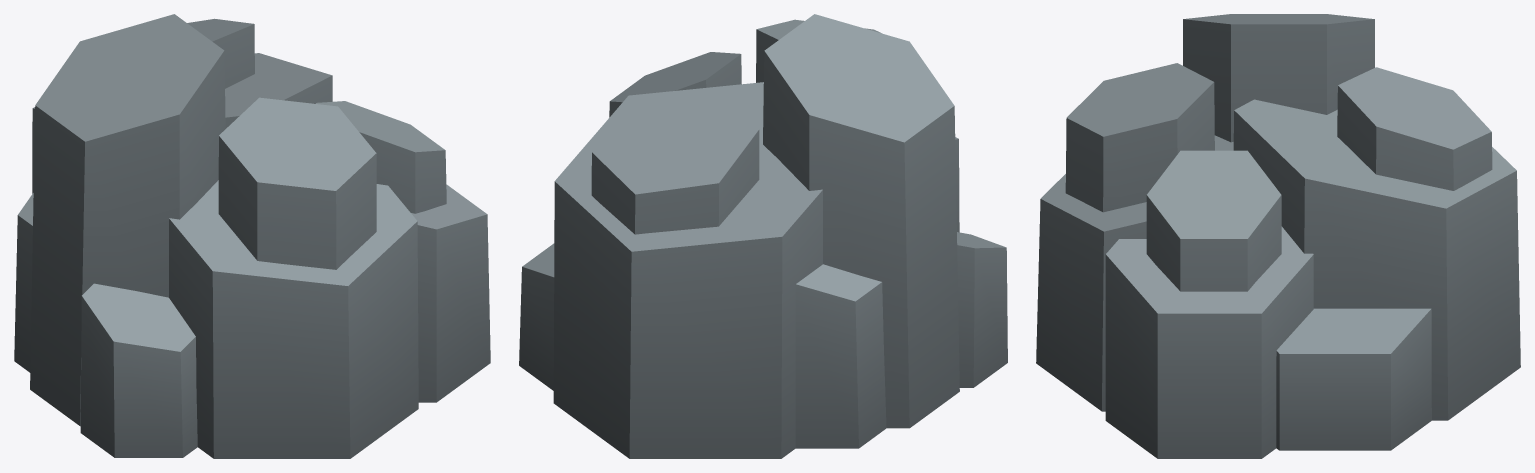
The model's file is mountain_C.glb.
3 views of the same model, side by side, from view 1: azimuth 30°, elevation 25°; view 2: azimuth 150°, elevation 25°; view 3: azimuth 270°, elevation 25° (orthographic). The views are drawn at different scales.
Parts seen in each view (by area): view 1: mountain_C; view 2: mountain_C; view 3: mountain_C.
Part boxes in pixels (x1,y1,x2,y2): mountain_C: (14, 14, 490, 458); mountain_C: (519, 14, 1007, 458); mountain_C: (1036, 14, 1520, 458).
Size of the model in its own units: 1.76 by 1.51 by 2.02.
Materials: 1 (1 with a texture image).
